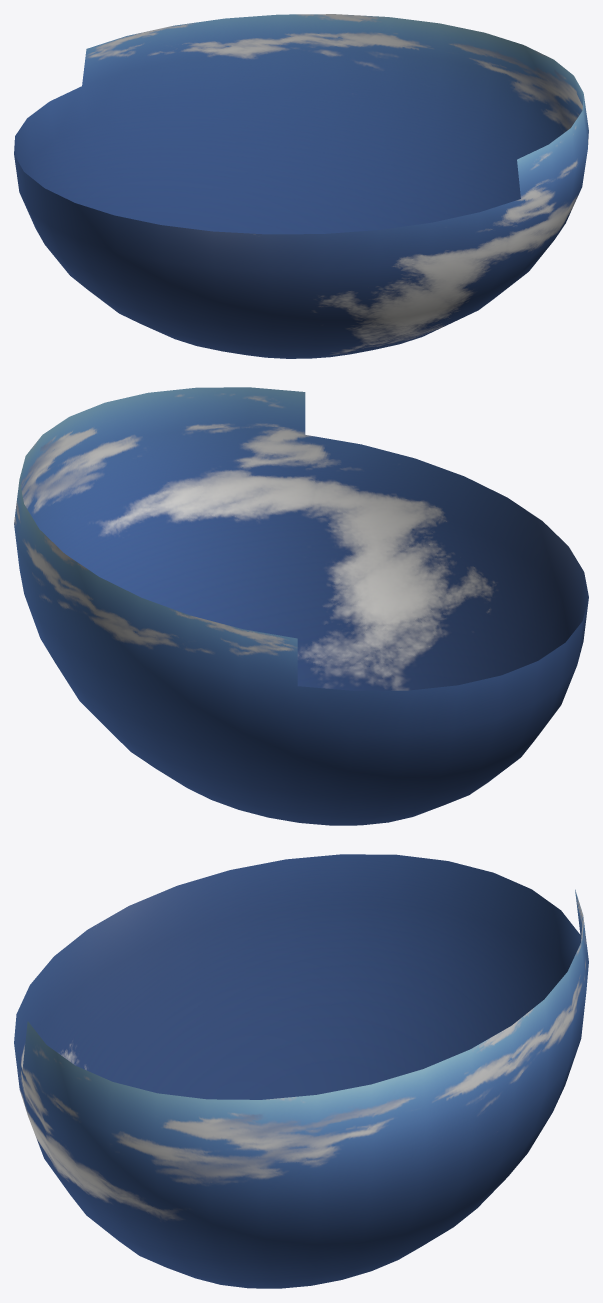
File: sky.obj
3 renders of one model, top to bottom at view 1: azimuth 30°, elevation 25°; view 2: azimuth 150°, elevation 25°; view 3: azimuth 270°, elevation 25°, orthographic. The views are drawn at different scales.
Parts seen in each view (by area): view 1: Sphere; view 2: Sphere; view 3: Sphere.
Boxes of the visible parts, x1,y1,x2,y2 form: Sphere: [14, 14, 588, 358]; Sphere: [14, 387, 588, 825]; Sphere: [14, 854, 588, 1288].
Size of the model in its own units: 147910 by 69270 by 122311.
1 material, 1 textured.
